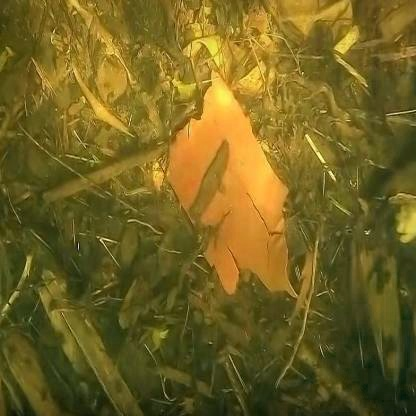misc: (160, 74, 297, 301)
